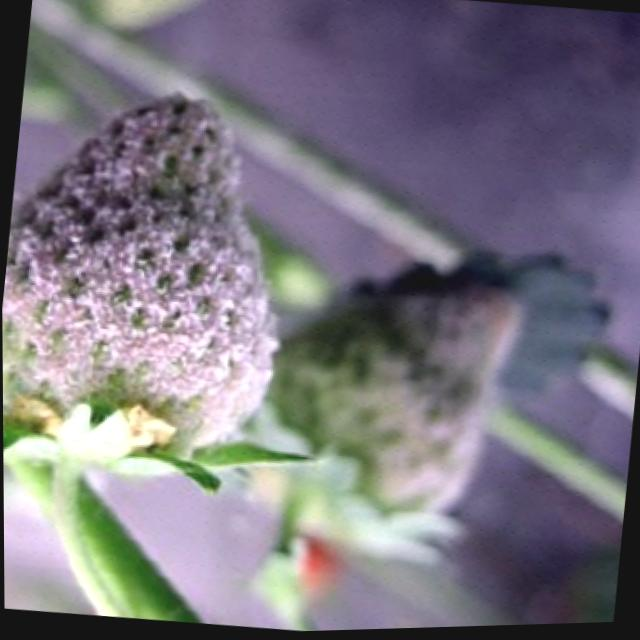Powdery Mildew Fruit: (2, 95, 273, 476), (241, 271, 520, 547)
